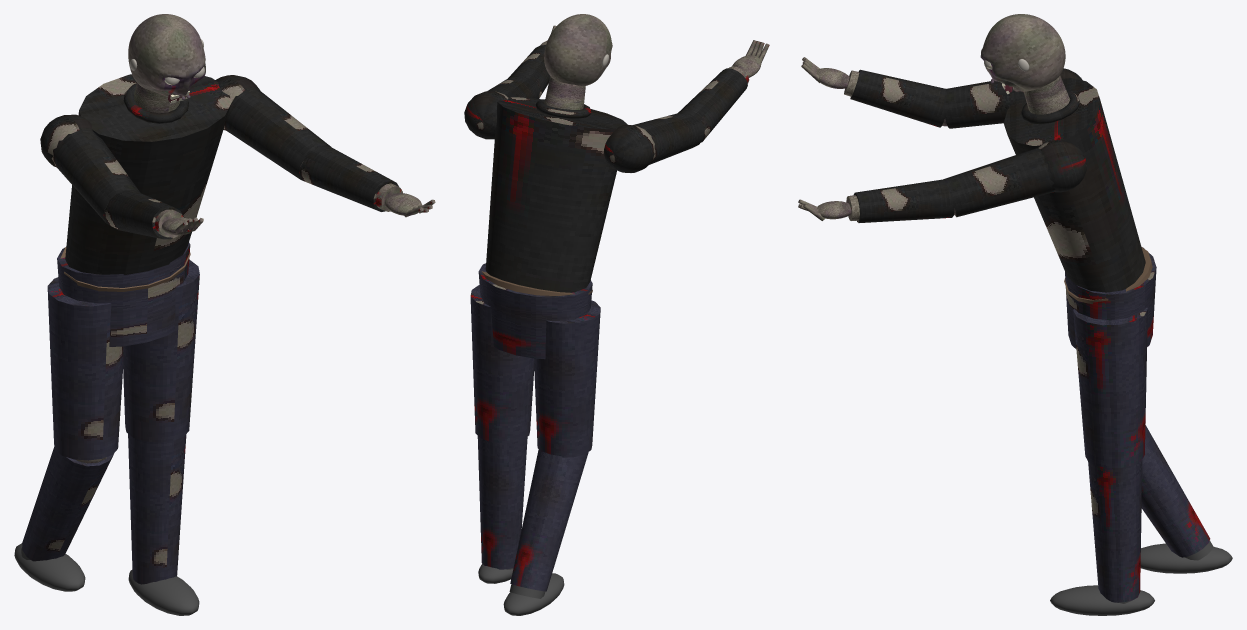
Rendered from Zombie_018.glb.
3 renders of one model, left to right at view 1: azimuth 30°, elevation 25°; view 2: azimuth 150°, elevation 25°; view 3: azimuth 270°, elevation 25°, orthographic. The views are drawn at different scales.
Visible parts, largest first — view 1: Zombie_018, object 18, object 12, object 4, object 13; view 2: Zombie_018, object 18, object 4, object 12; view 3: Zombie_018, object 18, object 12, object 4.
Boxes of the visible parts, x1,y1,x2,y2 form: Zombie_018: (14,74,331,615); object 18: (128,14,205,97); object 12: (299,145,398,211); object 4: (104,190,184,239); object 13: (384,193,422,215); Zombie_018: (464,75,704,615); object 18: (544,14,612,86); object 4: (678,68,747,142); object 12: (508,45,549,98); Zombie_018: (942,68,1232,615); object 18: (980,14,1065,92); object 12: (853,179,954,222); object 4: (850,69,946,127).
Size of the model in its own units: 0.7061 by 1.66 by 1.13.
15 materials, 5 textured.
